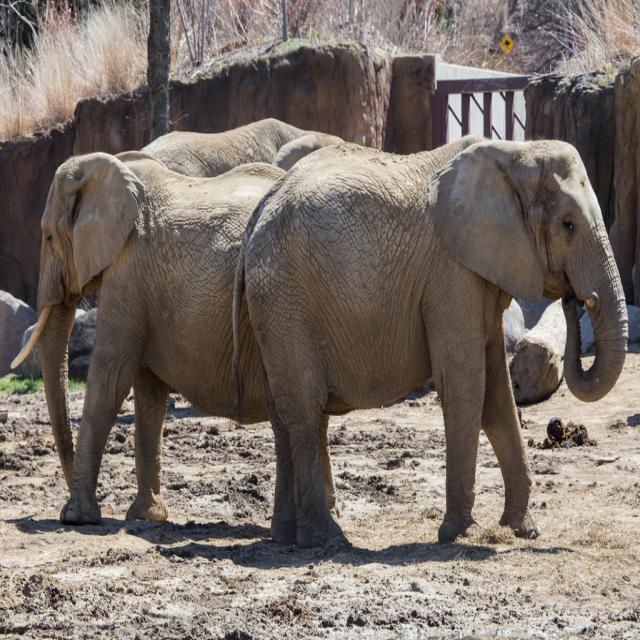elephant: (45, 118, 612, 553)
